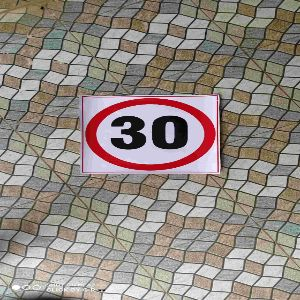speedlimit30: (81, 96, 221, 172)
